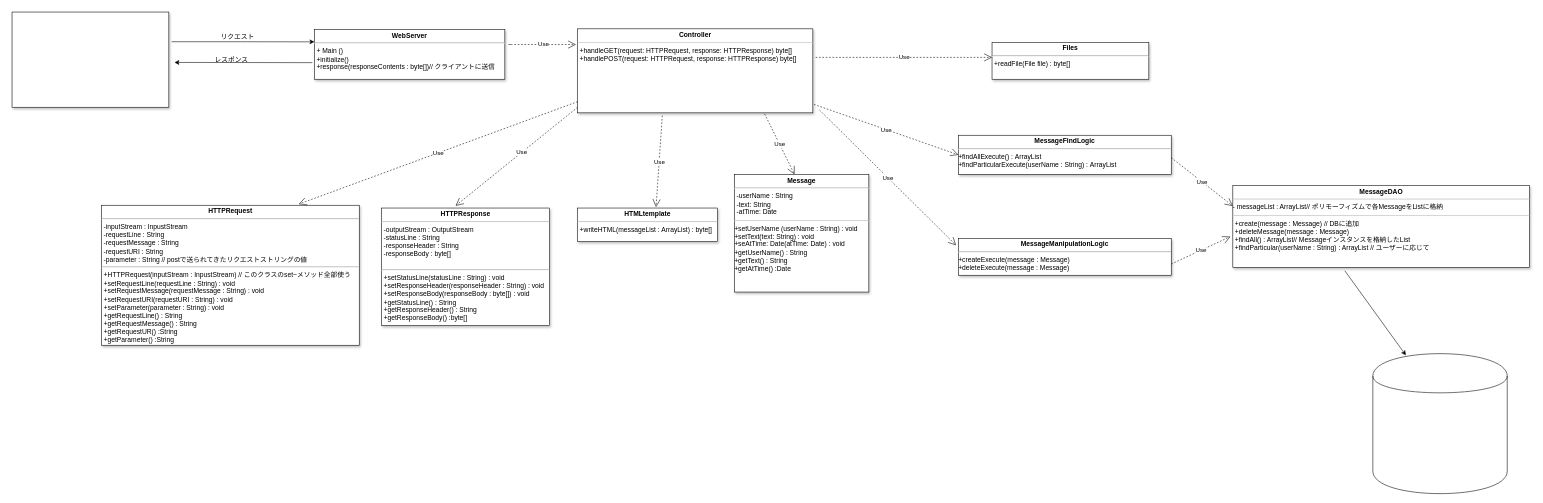
The diagram is 1543 pixels wide and 503 high, and some of its shapes have lost their labels. Here are the shapes that lost their labels. From the top down, the centre of each, then its label:
At (x=90, y=60): "Client".
At (x=1439, y=423): "DB".
